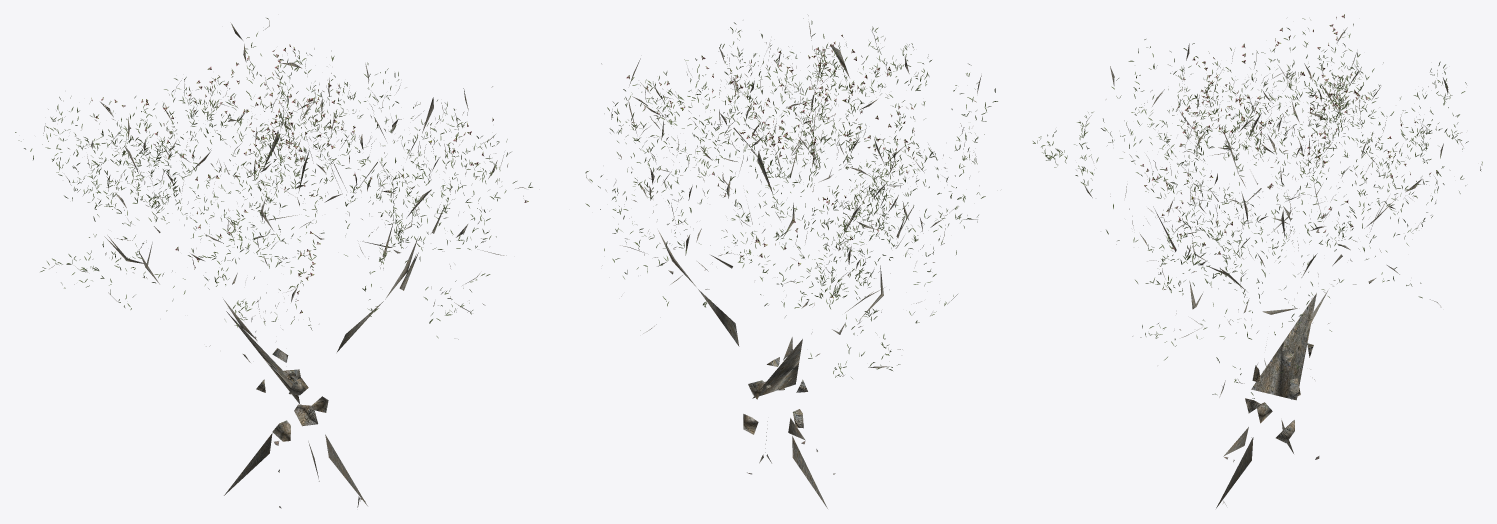
File: olivier-2.glb
The picture shows the model from 3 angles, left to right: view 1: azimuth 30°, elevation 25°; view 2: azimuth 150°, elevation 25°; view 3: azimuth 270°, elevation 25°; orthographic projection. The views are drawn at different scales.
Visible parts, largest first — view 1: AfricanOlive_High; view 2: AfricanOlive_High; view 3: AfricanOlive_High.
Boxes of the visible parts, x1,y1,x2,y2 form: AfricanOlive_High: (15,18,532,508); AfricanOlive_High: (585,14,1001,508); AfricanOlive_High: (1033,14,1482,508).
Bounding box in the file's own units: 10.42 × 11.76 × 11.15.
Materials: 5 (5 with a texture image).
